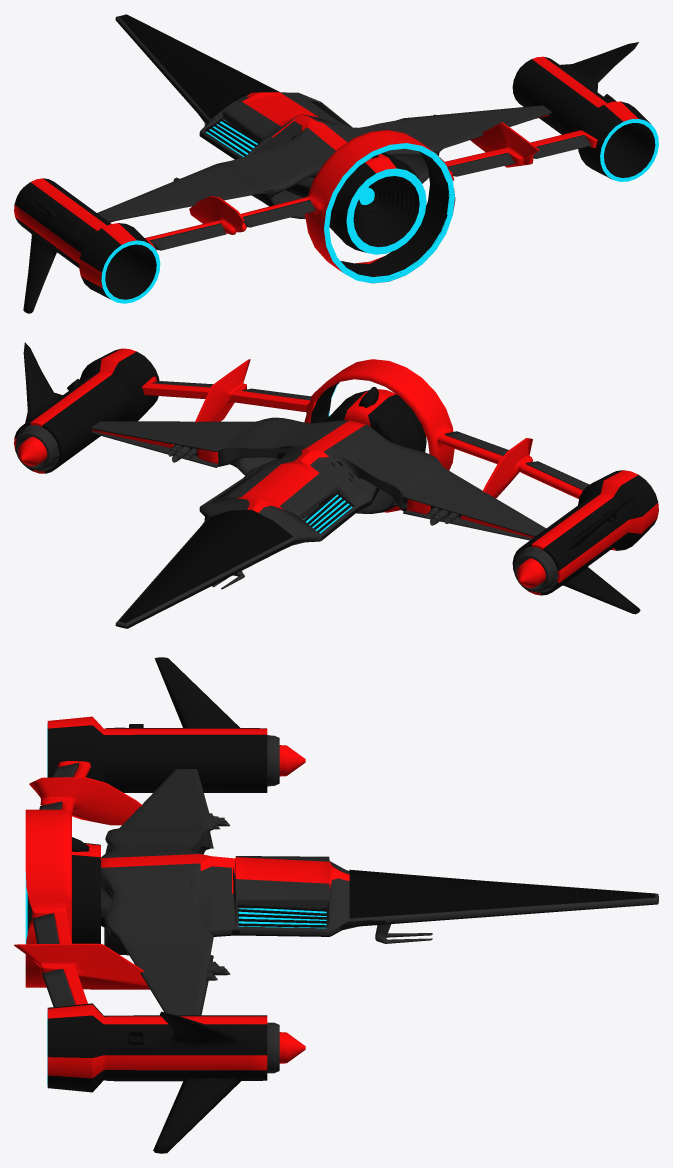
File: NavePrincipal_V02.FBX
3 views of the same model, one above another, from view 1: azimuth 30°, elevation 25°; view 2: azimuth 150°, elevation 25°; view 3: azimuth 270°, elevation 25° (orthographic). The views are drawn at different scales.
Parts seen in each view (by area): view 1: Body_Air01, Object017, Object019, Object018, Shape002; view 2: Body_Air01, Object017, Object018, Shape002; view 3: Body_Air01, Object017, Object018, Shape001.
Part boxes in pixels (left/top/right/bottom): Body_Air01: left=14, top=14, right=655, bottom=313; Object017: left=112, top=14, right=449, bottom=277; Object019: left=101, top=119, right=658, bottom=303; Object018: left=17, top=66, right=521, bottom=195; Shape002: left=206, top=119, right=257, bottom=156; Body_Air01: left=14, top=342, right=658, bottom=628; Object017: left=119, top=382, right=461, bottom=622; Object018: left=15, top=425, right=557, bottom=591; Shape002: left=303, top=494, right=352, bottom=533; Body_Air01: left=14, top=657, right=658, bottom=1153; Object017: left=27, top=869, right=655, bottom=932; Object018: left=206, top=735, right=432, bottom=1073; Shape001: left=238, top=908, right=326, bottom=928.
Bounding box in the file's own units: 770 × 164 × 593.
